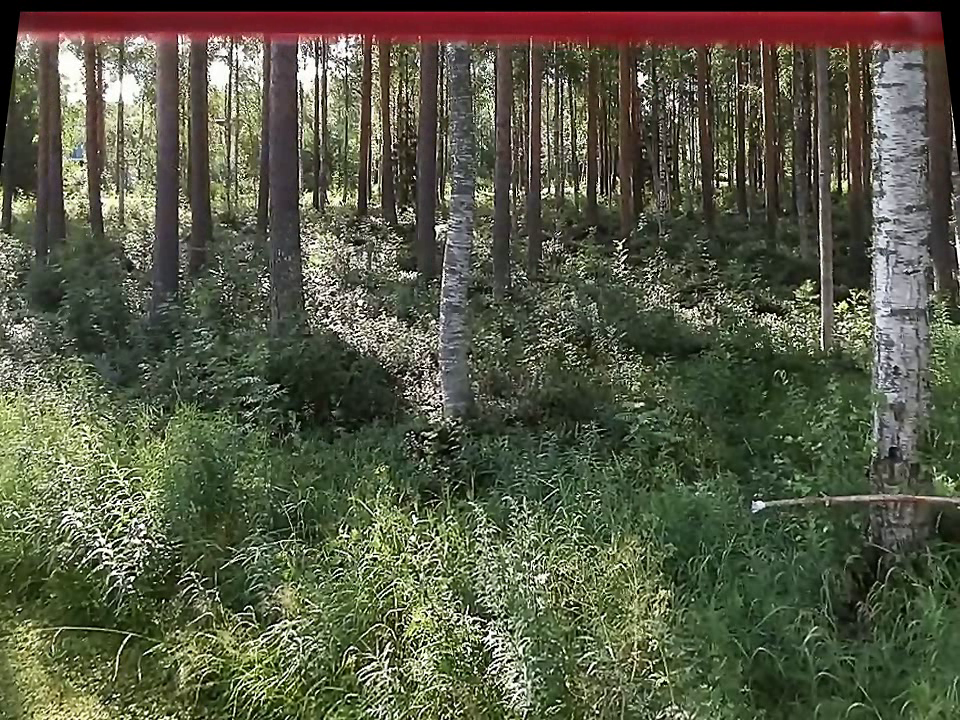branch: (768, 484, 957, 517)
